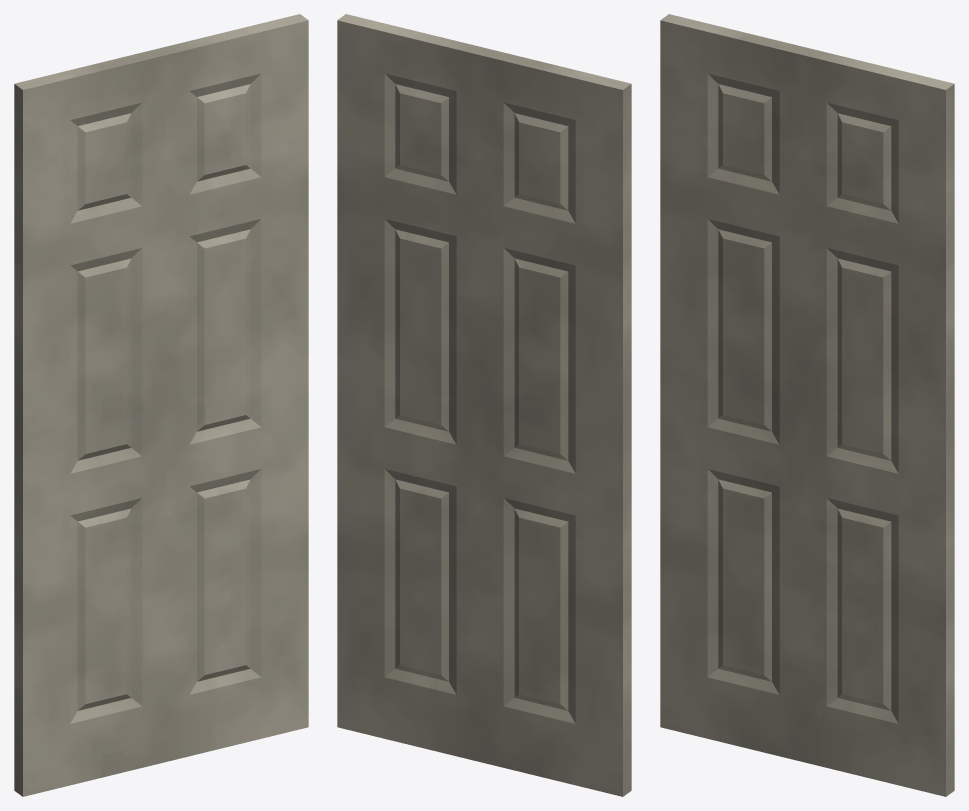
Rendered from door_six.glb.
3 renders of one model, left to right at view 1: azimuth 30°, elevation 25°; view 2: azimuth 150°, elevation 25°; view 3: azimuth 330°, elevation 25°, orthographic.
Parts seen in each view (by area): view 1: door_six; view 2: door_six; view 3: door_six.
Boxes of the visible parts, x1,y1,x2,y2 form: door_six: (14,14,308,796); door_six: (337,14,631,796); door_six: (660,14,954,796).
Bounding box in the file's own units: 0.838 × 1.98 × 0.044.
1 material, 1 textured.
